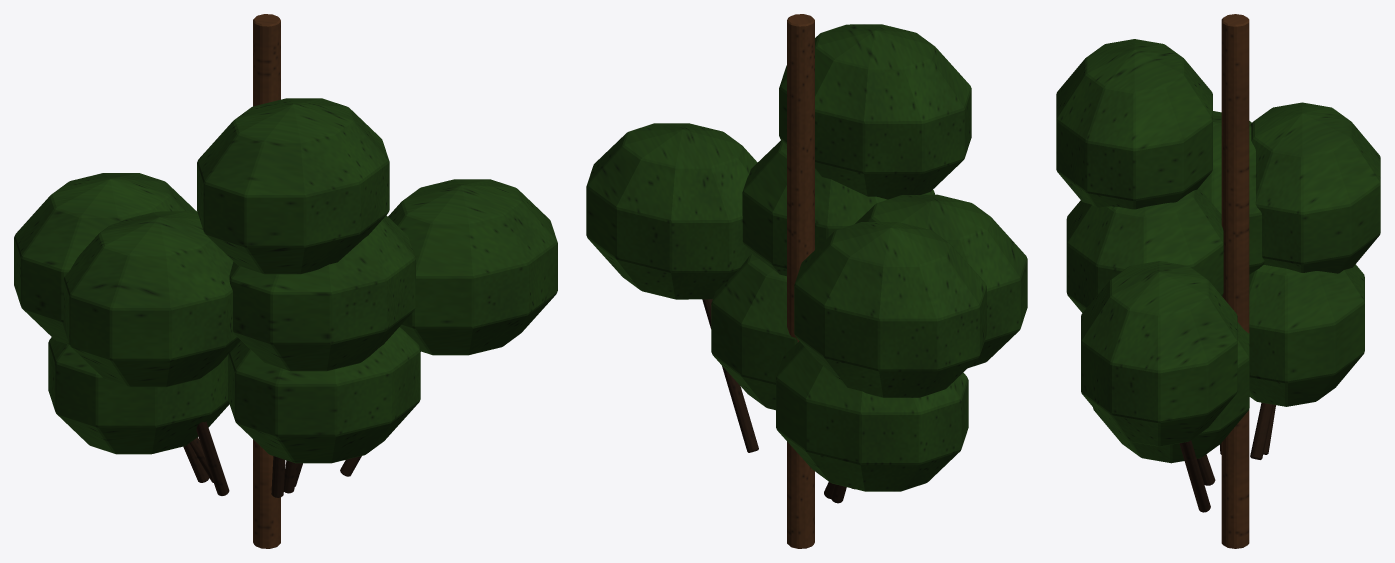
File: PROP-4E5DD56A1882_lod1.glb
The picture shows the model from 3 angles, left to right: view 1: azimuth 30°, elevation 25°; view 2: azimuth 150°, elevation 25°; view 3: azimuth 270°, elevation 25°; orthographic projection.
Visible parts, largest first — view 1: foliage.015, vine_stake.001, plant_stem.015; view 2: foliage.015, vine_stake.001, plant_stem.015; view 3: foliage.015, vine_stake.001, plant_stem.015.
Boxes of the visible parts, left/top/right/bottom form: foliage.015: left=14, top=98, right=557, bottom=463; vine_stake.001: left=253, top=14, right=280, bottom=548; plant_stem.015: left=183, top=351, right=420, bottom=497; foliage.015: left=586, top=24, right=1027, bottom=491; vine_stake.001: left=787, top=14, right=814, bottom=548; plant_stem.015: left=702, top=299, right=854, bottom=503; foliage.015: left=1056, top=39, right=1380, bottom=463; vine_stake.001: left=1221, top=14, right=1249, bottom=548; plant_stem.015: left=1179, top=402, right=1275, bottom=512.
Bounding box in the file's own units: 1.46 × 1.6 × 0.8982.
Materials: 3 (3 with a texture image).
